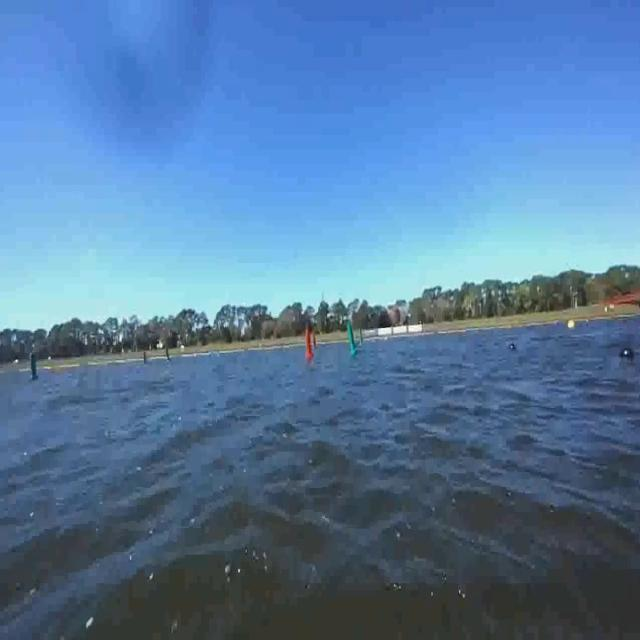black-buoy: (620, 346, 636, 362), (511, 344, 517, 349)
green-column-buoy: (26, 349, 39, 382), (347, 322, 358, 357)
red-column-buoy: (304, 330, 312, 360), (142, 347, 149, 366)
yellow-buoy: (566, 316, 576, 332)
